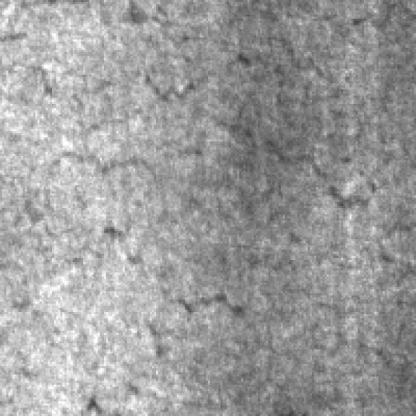crazing: (149, 31, 383, 210), (35, 170, 256, 352)
